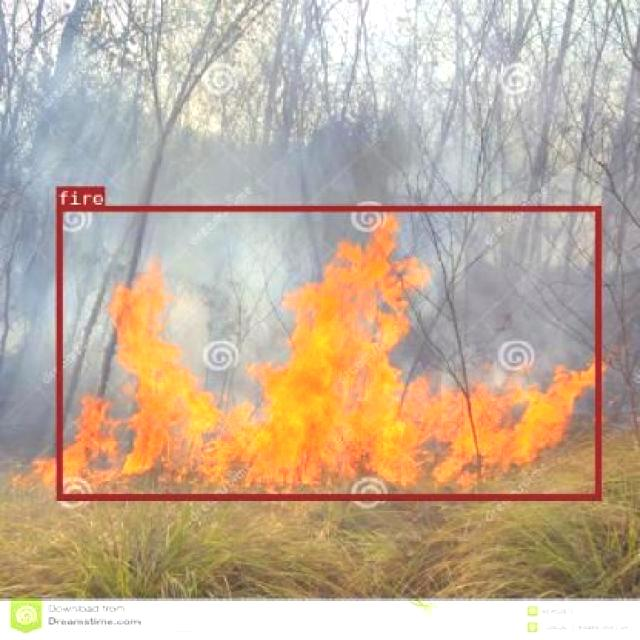fire: (56, 205, 599, 498)
